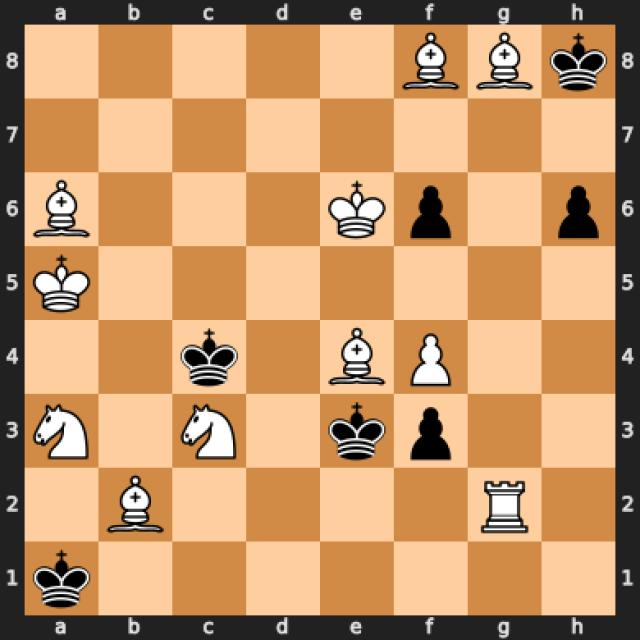Bishop_white: (106, 474, 167, 536), (476, 31, 534, 93), (402, 32, 460, 92), (328, 327, 386, 387), (33, 181, 91, 239)
King_black: (327, 402, 388, 462), (32, 548, 91, 609), (181, 326, 239, 387), (549, 34, 609, 92)
King_white: (31, 253, 93, 313), (328, 181, 387, 240)
Knight_white: (33, 403, 91, 462), (181, 404, 237, 460)
Pawn_black: (407, 185, 455, 240), (408, 407, 454, 462), (557, 185, 601, 241)
Pawn_white: (409, 331, 454, 388)
Rook_white: (480, 478, 530, 534)
